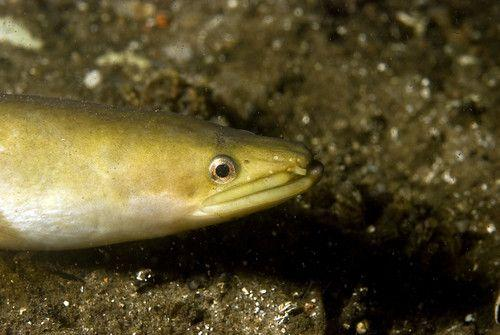Freshwater Eel: (2, 91, 322, 256)
